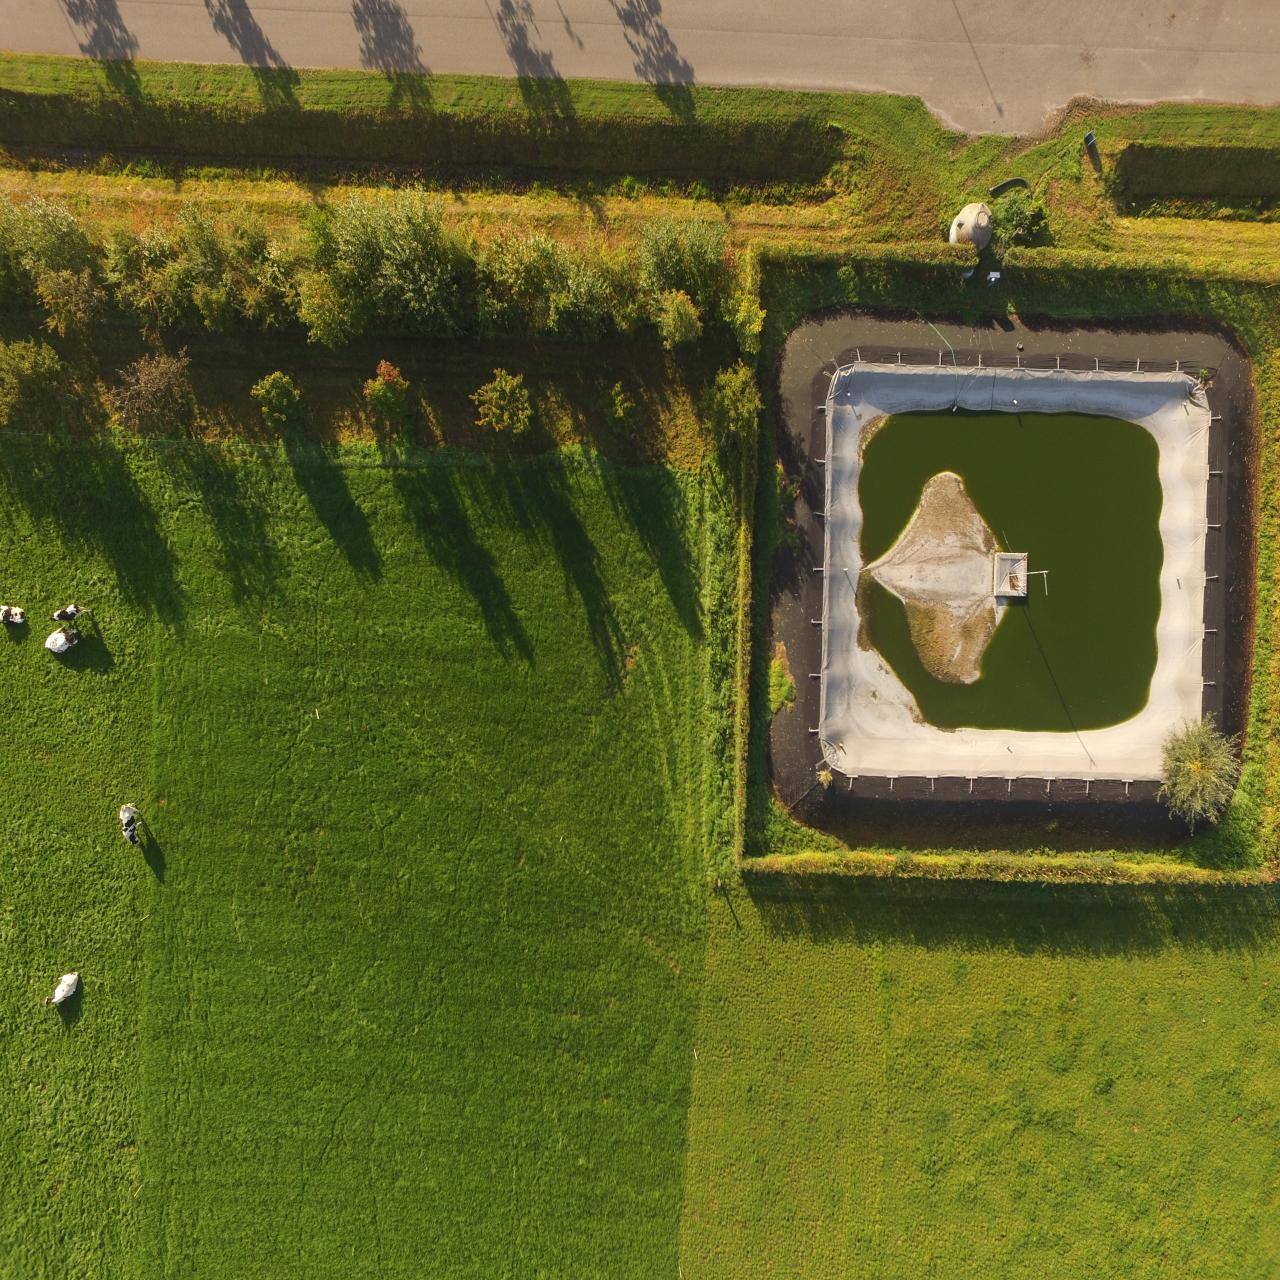cow: (45, 965, 87, 1019), (115, 798, 152, 852), (41, 621, 89, 658), (45, 601, 97, 625)
